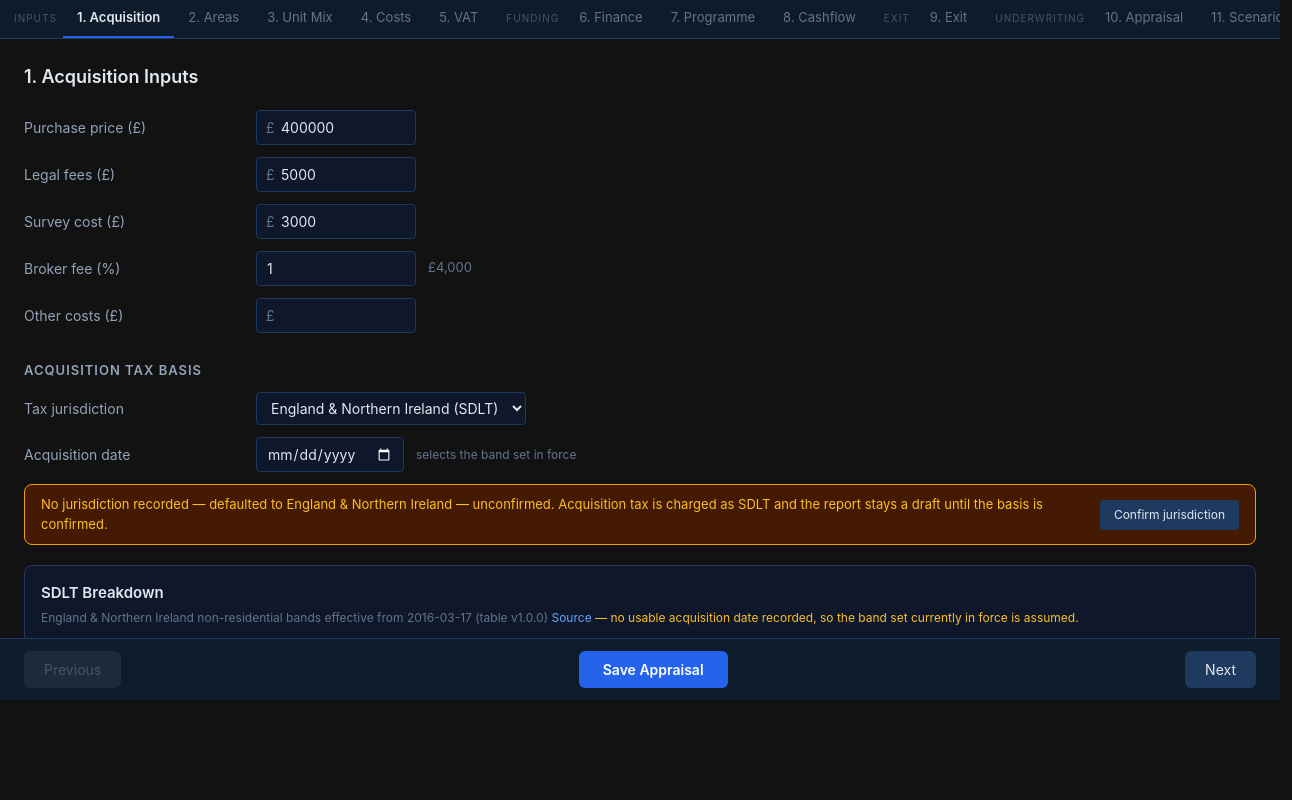
Scenario: ConversionCalculator adopts the saved snapshot the server returns (R8 Task 11) › does not discard an edit made while the save was in flight
Click the button "Save Appraisal" at (653, 670), box top-left (579, 651), bottom-right (728, 688)
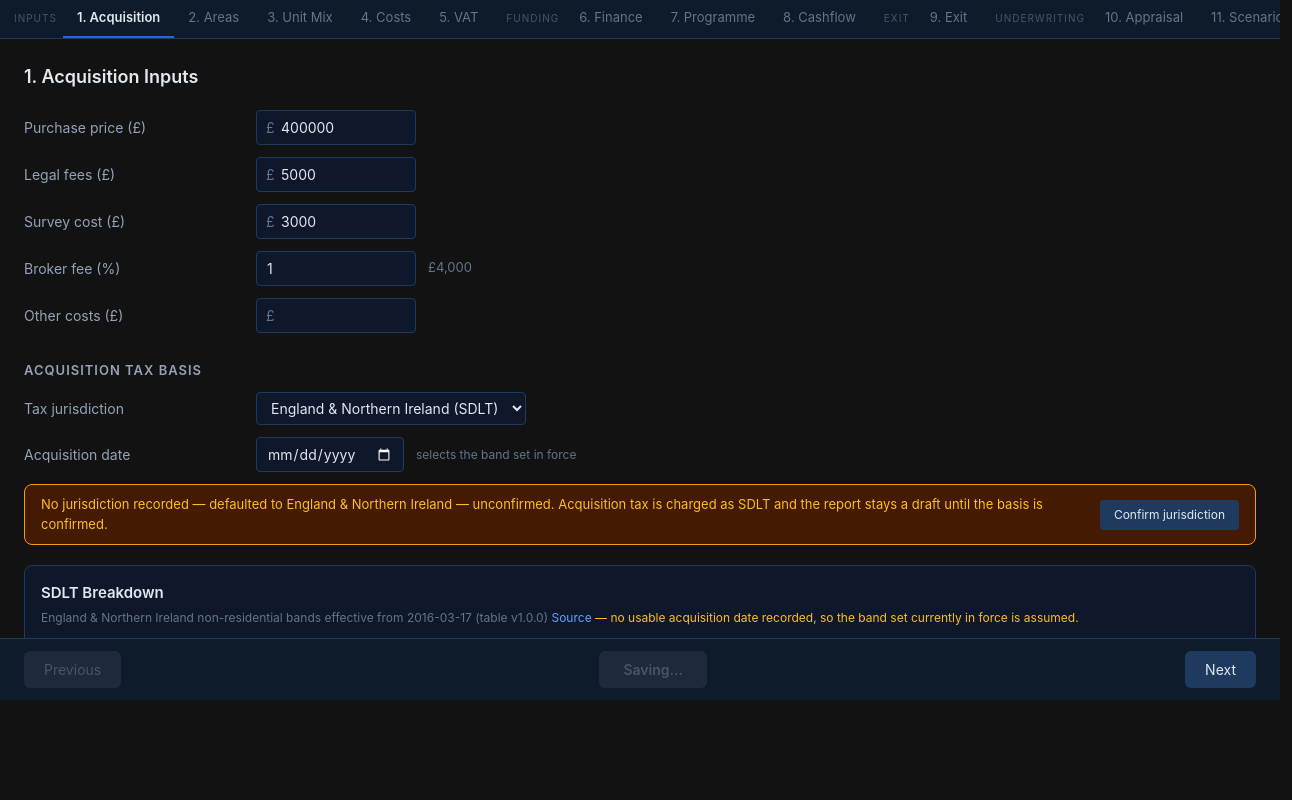
Replace the text in the number field showing "400000" next to "Purchase price (£)" with "500000" at (336, 127), box top-left (256, 110), bottom-right (416, 144)
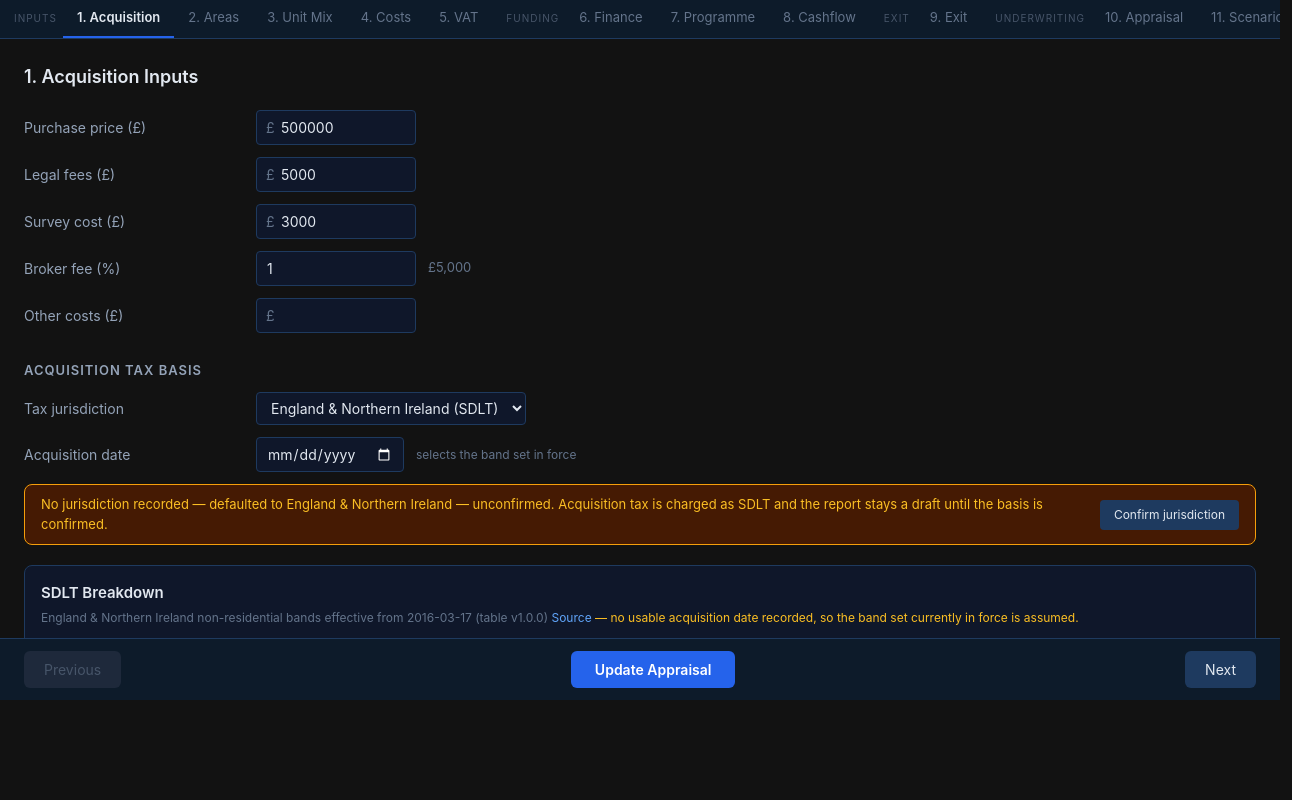
Expected: the field showing "400000" is not shown
Now the button "Update Appraisal" is shown, box top-left (571, 651), bottom-right (735, 688)
